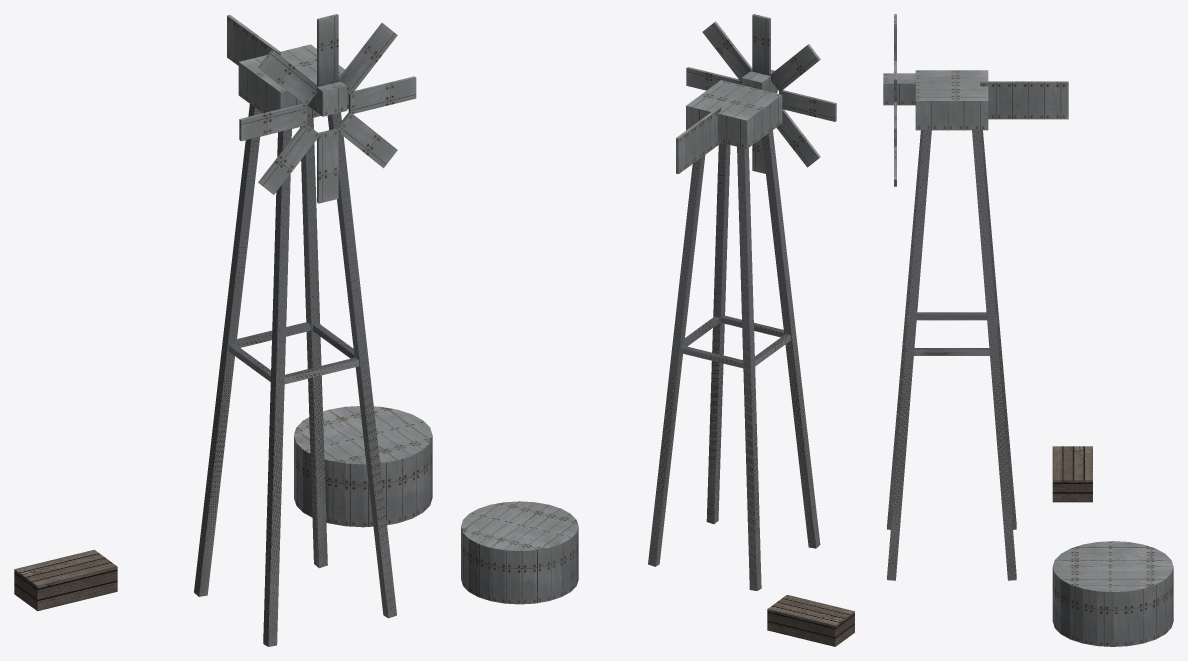
Rendered from windmill_lod0.gltf.
The picture shows the model from 3 angles, left to right: view 1: azimuth 30°, elevation 25°; view 2: azimuth 150°, elevation 25°; view 3: azimuth 270°, elevation 25°; orthographic projection. The views are drawn at different scales.
Visible parts, largest first — view 1: windmill_tower, windmill__rotor, windmill__tank, windmill__trough, windmill_head; view 2: windmill_tower, windmill__tank, windmill__rotor, windmill_head, windmill__trough; view 3: windmill_tower, windmill__tank, windmill__rotor, windmill_head, windmill__trough.
Boxes of the visible parts, bbox=[...] form: windmill_tower: bbox=[194, 104, 396, 646]; windmill__rotor: bbox=[227, 14, 416, 203]; windmill__tank: bbox=[294, 406, 432, 527]; windmill__trough: bbox=[14, 549, 117, 611]; windmill_head: bbox=[238, 44, 348, 119]; windmill_tower: bbox=[648, 130, 820, 590]; windmill__tank: bbox=[461, 501, 578, 604]; windmill__rotor: bbox=[676, 14, 836, 173]; windmill_head: bbox=[686, 80, 782, 148]; windmill__trough: bbox=[767, 595, 854, 646]; windmill_tower: bbox=[887, 130, 1016, 580]; windmill__tank: bbox=[1052, 541, 1173, 646]; windmill__rotor: bbox=[883, 14, 1068, 186]; windmill_head: bbox=[915, 70, 988, 130]; windmill__trough: bbox=[1052, 446, 1092, 502].
Size of the model in its own units: 10.5 by 14.61 by 7.2.
